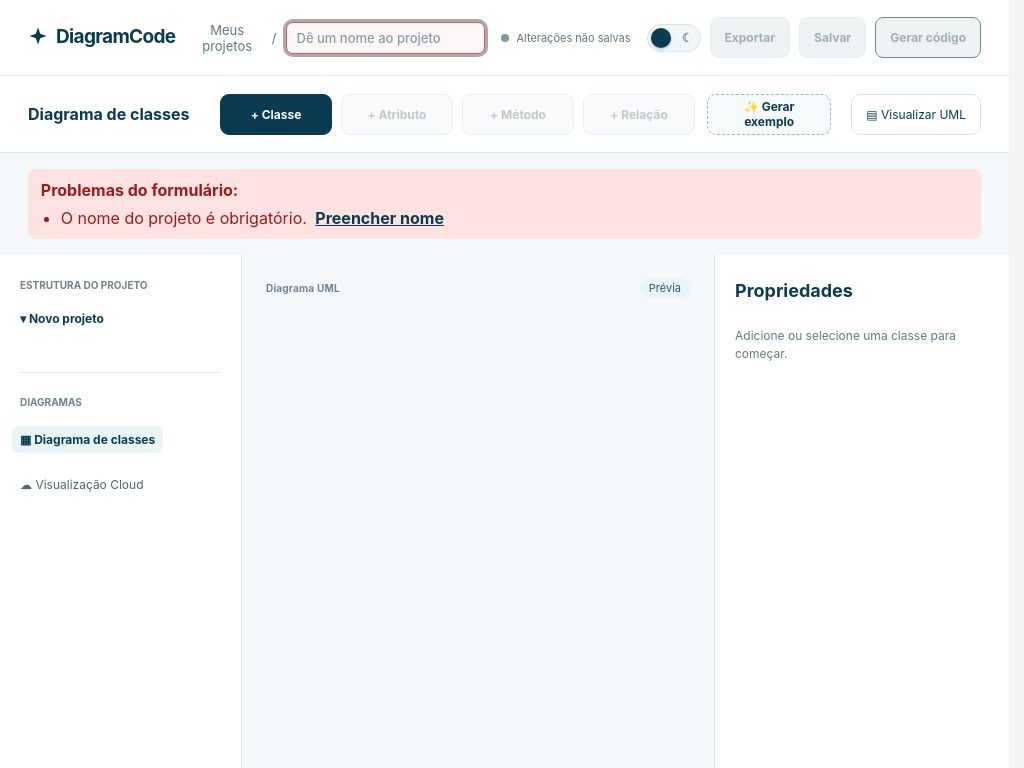
Test: FE-17 — CRUD de classes e seleção › adiciona uma classe vazia e foca o campo do nome
Click the button "+ Classe" at (276, 114), box [220, 94, 332, 134]
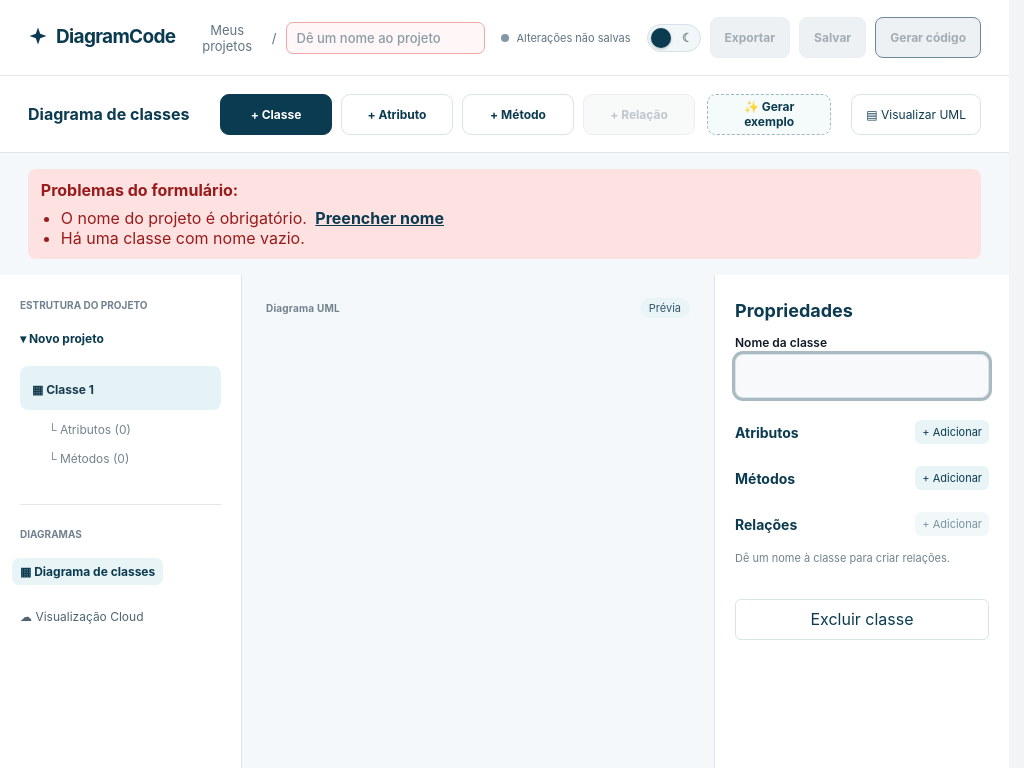
Expected: the number of buttons with class "editor-fe15__class-item" is 1, [20, 366, 221, 410]
Expected: the button with class "editor-fe15__class-item" shows "Classe 1", [20, 366, 221, 410]
Expected: the field labelled "Nome da classe" is empty, [735, 354, 989, 398]
